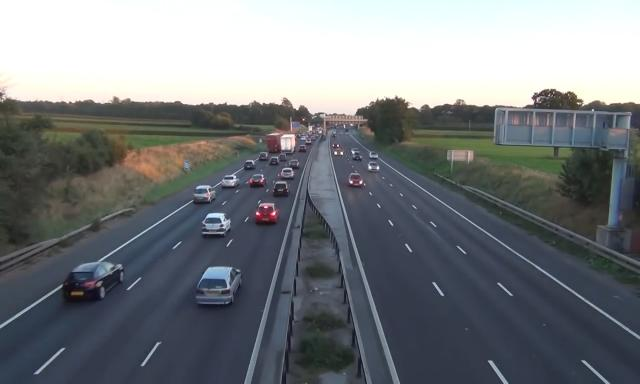caminhaog: (280, 134, 296, 154), (266, 133, 280, 153)
carro: (62, 261, 124, 304), (195, 266, 243, 308), (201, 212, 232, 238), (255, 203, 280, 224), (193, 184, 217, 204), (273, 181, 290, 198), (221, 175, 240, 189), (249, 174, 267, 188), (349, 173, 363, 187), (280, 168, 294, 180), (368, 161, 381, 172), (245, 159, 256, 170), (288, 158, 300, 168), (257, 152, 269, 162), (270, 156, 280, 166), (353, 152, 363, 161), (277, 153, 288, 161), (298, 144, 307, 153), (369, 151, 378, 159), (351, 148, 361, 155), (332, 142, 340, 150), (334, 148, 343, 155), (306, 139, 312, 145), (301, 135, 306, 141), (296, 134, 300, 138)
